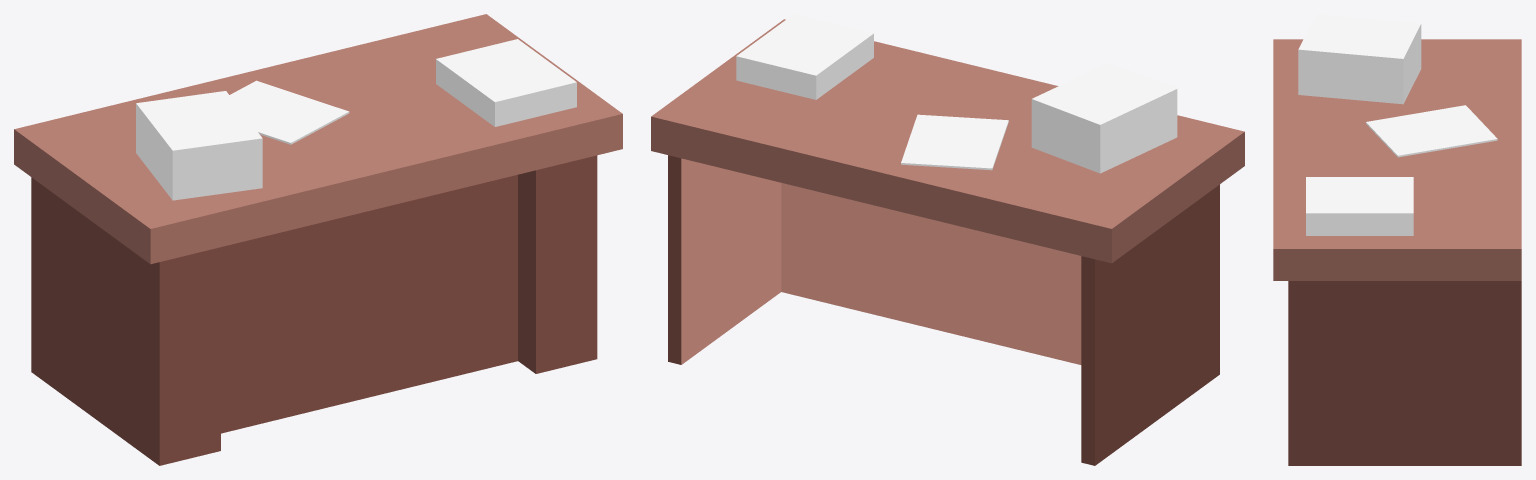
The model's file is office-desk-2.glb.
The picture shows the model from 3 angles, left to right: view 1: azimuth 30°, elevation 25°; view 2: azimuth 150°, elevation 25°; view 3: azimuth 270°, elevation 25°; orthographic projection. The views are drawn at different scales.
Visible parts, largest first — view 1: REFERENCE.003, Cube.013, Cube.012, Cube.014; view 2: REFERENCE.003, Cube.013, Cube.012, Cube.014; view 3: REFERENCE.003, Cube.013, Cube.012, Cube.014.
Part boxes in pixels (x1,y1,x2,y2): REFERENCE.003: (14, 14, 622, 465); Cube.013: (136, 91, 262, 200); Cube.012: (436, 39, 576, 126); Cube.014: (229, 80, 349, 144); REFERENCE.003: (651, 19, 1244, 465); Cube.013: (1031, 62, 1177, 173); Cube.012: (736, 14, 873, 99); Cube.014: (901, 114, 1008, 170); REFERENCE.003: (1273, 39, 1521, 465); Cube.013: (1298, 14, 1421, 104); Cube.012: (1306, 177, 1413, 235); Cube.014: (1366, 105, 1497, 157).
Bounding box in the file's own units: 1.4 × 0.8416 × 0.7.
3 materials, 3 textured.
